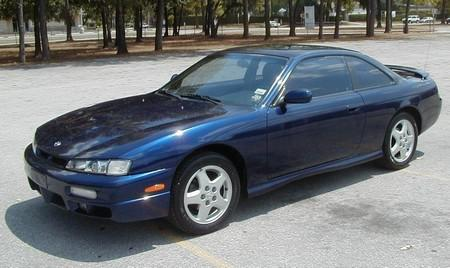Car: (15, 37, 450, 242)
